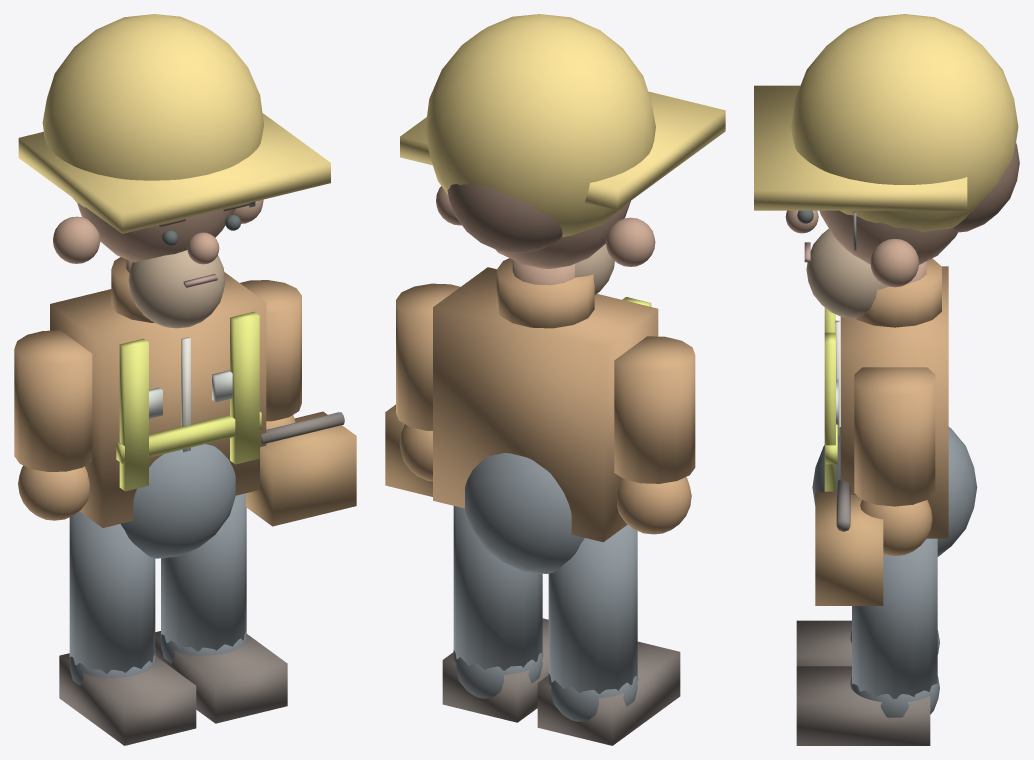
Rendered from mercy_person_14.glb.
3 views of the same model, side by side, from view 1: azimuth 30°, elevation 25°; view 2: azimuth 150°, elevation 25°; view 3: azimuth 270°, elevation 25° (orthographic). The views are drawn at different scales.
Visible parts, largest first — view 1: SkinClothing_10, SkinClothing_0, Arm_Left, Leg_Left, SkinClothing_5, Leg_Right, SkinClothing_1, SkinClothing_12, Boot_Left, Boot_Right, SkinClothing_2, SkinClothing_9 (+4 smaller); view 2: SkinClothing_10, SkinClothing_0, Leg_Left, Arm_Left, Leg_Right, SkinClothing_1, Arm_Right, Boot_Left, SkinClothing_2, SkinClothing_7, Boot_Right, SkinClothing_12 (+1 smaller); view 3: SkinClothing_10, Arm_Right, SkinClothing_0, Leg_Right, Boot_Right, SkinClothing_12, SkinClothing_2, SkinClothing_9, SkinClothing_1, Boot_Left, SkinClothing_5, SkinClothing_7 (+1 smaller).
Part boxes in pixels (bbox=[...]): SkinClothing_10: bbox=[18, 14, 330, 233]; SkinClothing_0: bbox=[50, 257, 266, 527]; Arm_Left: bbox=[14, 330, 92, 520]; Leg_Left: bbox=[69, 511, 155, 685]; SkinClothing_5: bbox=[116, 311, 261, 491]; Leg_Right: bbox=[160, 493, 247, 663]; SkinClothing_1: bbox=[120, 444, 235, 558]; SkinClothing_12: bbox=[245, 411, 356, 526]; Boot_Left: bbox=[59, 653, 196, 745]; Boot_Right: bbox=[155, 631, 287, 723]; SkinClothing_2: bbox=[53, 200, 263, 272]; SkinClothing_9: bbox=[128, 250, 225, 328]; SkinClothing_10: bbox=[400, 14, 725, 237]; SkinClothing_0: bbox=[433, 258, 658, 542]; Leg_Left: bbox=[548, 524, 638, 721]; Arm_Left: bbox=[614, 336, 695, 534]; Leg_Right: bbox=[453, 506, 543, 698]; SkinClothing_1: bbox=[465, 453, 584, 573]; Arm_Right: bbox=[396, 283, 460, 481]; Boot_Left: bbox=[537, 641, 680, 745]; SkinClothing_2: bbox=[436, 186, 655, 285]; SkinClothing_7: bbox=[447, 183, 562, 252]; Boot_Right: bbox=[442, 618, 548, 722]; SkinClothing_12: bbox=[385, 404, 432, 496]; SkinClothing_10: bbox=[754, 14, 1018, 232]; Arm_Right: bbox=[854, 367, 935, 556]; SkinClothing_0: bbox=[840, 258, 948, 538]; Leg_Right: bbox=[850, 538, 939, 717]; Boot_Right: bbox=[796, 666, 930, 745]; SkinClothing_12: bbox=[815, 492, 883, 605]; SkinClothing_2: bbox=[785, 210, 957, 287]; SkinClothing_9: bbox=[806, 229, 887, 318]; SkinClothing_1: bbox=[812, 427, 977, 556]; Boot_Left: bbox=[796, 620, 851, 666]; SkinClothing_5: bbox=[824, 307, 837, 491]; SkinClothing_7: bbox=[953, 143, 1019, 232].
Size of the model in its own units: 1.21 by 2.58 by 0.91.
